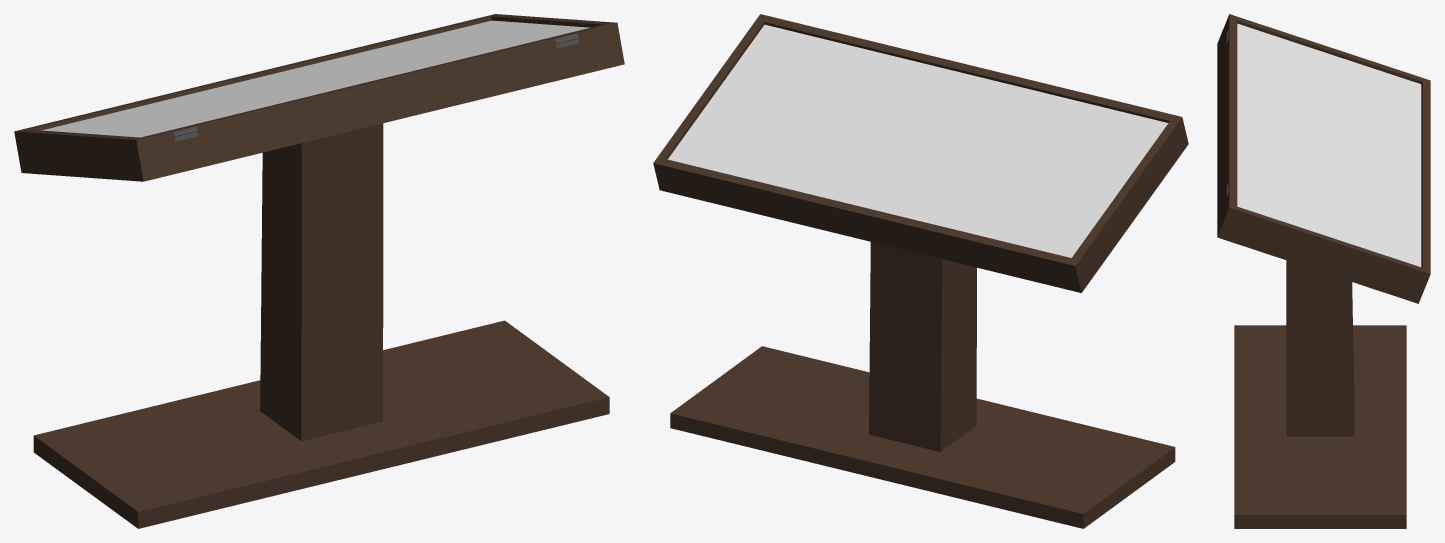
Rendered from showcase.fbx.
The picture shows the model from 3 angles, left to right: view 1: azimuth 30°, elevation 25°; view 2: azimuth 150°, elevation 25°; view 3: azimuth 270°, elevation 25°; orthographic projection. The views are drawn at different scales.
Visible parts, largest first — view 1: Cube; view 2: Cube; view 3: Cube.
Boxes of the visible parts, box(x1,y1,x2,y2) form: Cube: box(14, 14, 624, 528); Cube: box(653, 14, 1188, 528); Cube: box(1217, 14, 1430, 528).
Size of the model in its own units: 1593 by 1241 by 742.
